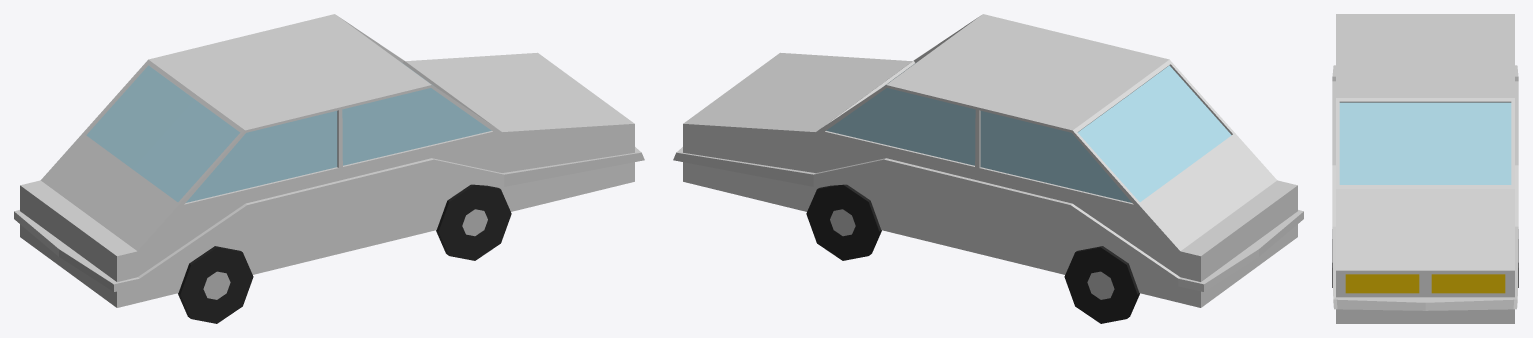
File: Coche3.fbx
3 renders of one model, left to right at view 1: azimuth 30°, elevation 25°; view 2: azimuth 150°, elevation 25°; view 3: azimuth 270°, elevation 25°, orthographic. The views are drawn at different scales.
Visible parts, largest first — view 1: Cube, Cylinder.001, Cylinder; view 2: Cube, Cylinder.001, Cylinder; view 3: Cube.
Boxes of the visible parts, x1,y1,x2,y2 form: Cube: (14, 14, 644, 307); Cylinder.001: (178, 246, 253, 323); Cylinder: (436, 184, 511, 260); Cube: (673, 14, 1303, 307); Cylinder.001: (1064, 246, 1139, 323); Cylinder: (806, 184, 881, 260); Cube: (1332, 14, 1518, 323).
Bounding box in the file's own units: 872 × 285 × 282.
